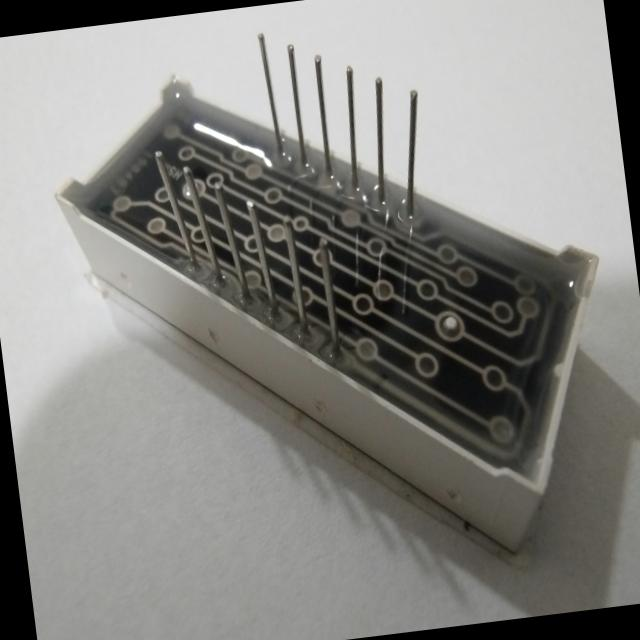7_segments_4_digits: (28, 0, 640, 624)
